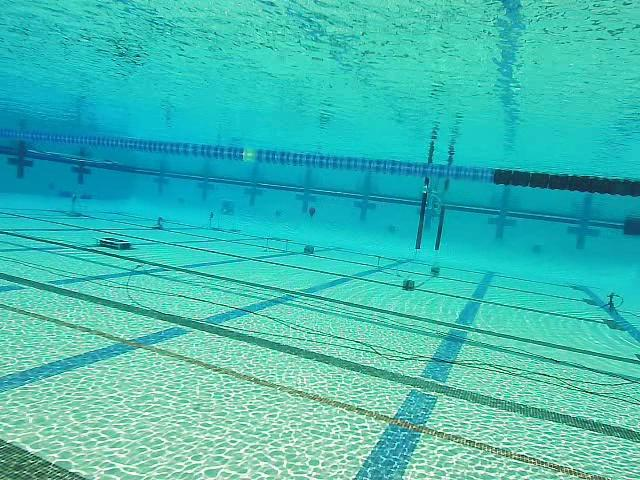dropper: (96, 234, 132, 253)
gate_leg_l: (414, 177, 430, 248)
gate_leg_r: (434, 206, 446, 251)
table: (55, 187, 94, 219)
torpedo: (218, 198, 234, 217)
